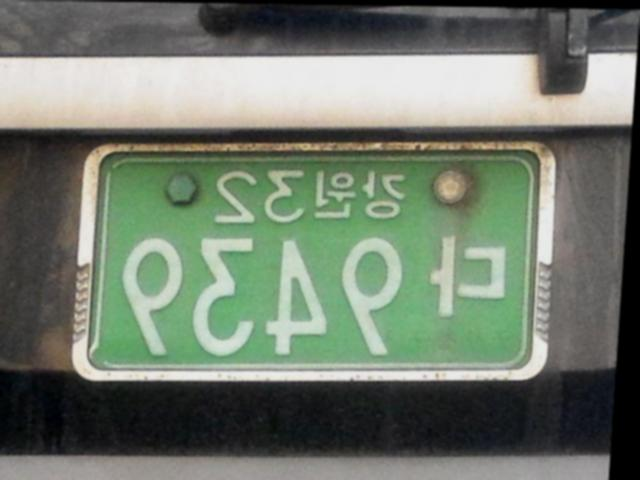License_Plate: (47, 126, 559, 408)
